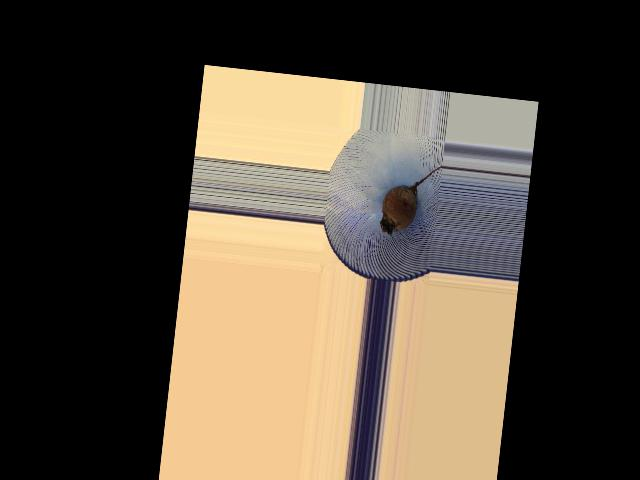beet: (379, 160, 443, 240)
